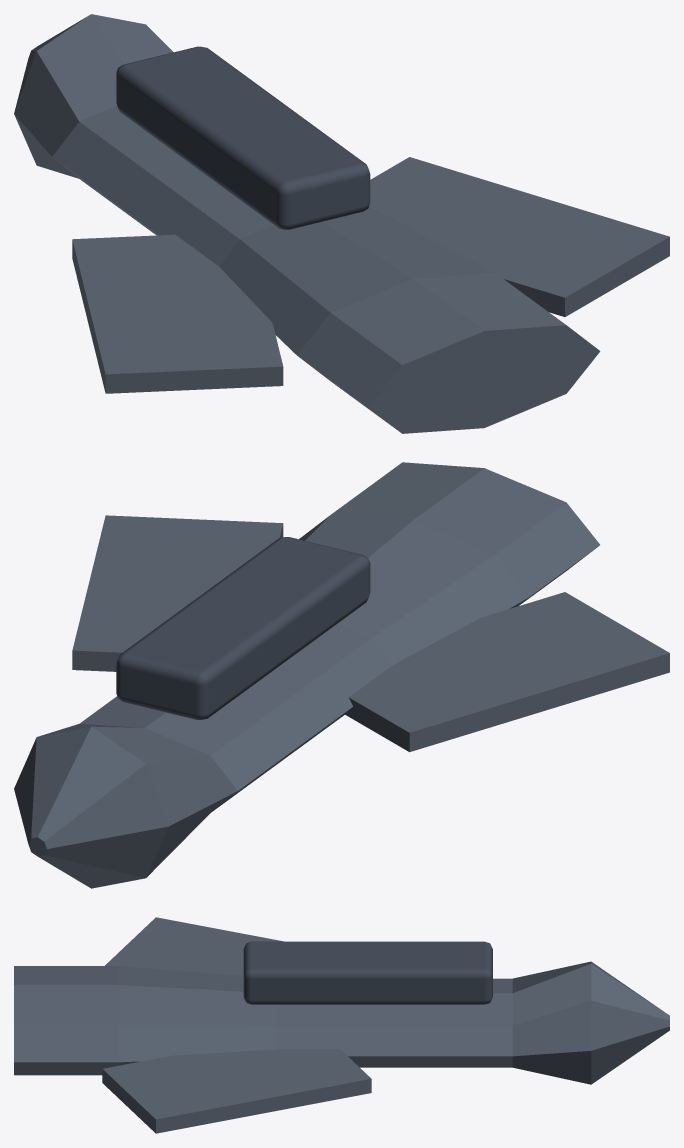
The model's file is casco_replica.glb.
The picture shows the model from 3 angles, top to bottom: view 1: azimuth 30°, elevation 25°; view 2: azimuth 150°, elevation 25°; view 3: azimuth 270°, elevation 25°; orthographic projection. The views are drawn at different scales.
Parts seen in each view (by area): view 1: HullBody, PortWing, BridgeTower, casco.asa.boreste, HullBow; view 2: HullBody, PortWing, HullBow, BridgeTower, casco.asa.boreste; view 3: HullBody, BridgeTower, casco.asa.boreste, HullBow, PortWing.
Boxes of the visible parts, <box> form: HullBody: <box>52,106,600,433</box>; PortWing: <box>72,234,283,393</box>; BridgeTower: <box>116,46,370,229</box>; casco.asa.boreste: <box>369,157,669,316</box>; HullBow: <box>14,14,173,178</box>; HullBody: <box>79,462,599,810</box>; PortWing: <box>344,592,669,752</box>; HullBow: <box>14,724,237,888</box>; BridgeTower: <box>116,537,370,719</box>; casco.asa.boreste: <box>72,515,283,671</box>; HullBody: <box>14,966,512,1075</box>; BridgeTower: <box>243,941,492,1004</box>; casco.asa.boreste: <box>102,1049,371,1133</box>; HullBow: <box>512,961,669,1084</box>; PortWing: <box>105,917,283,975</box>.
Size of the model in its own units: 3.65 by 1.07 by 5.
